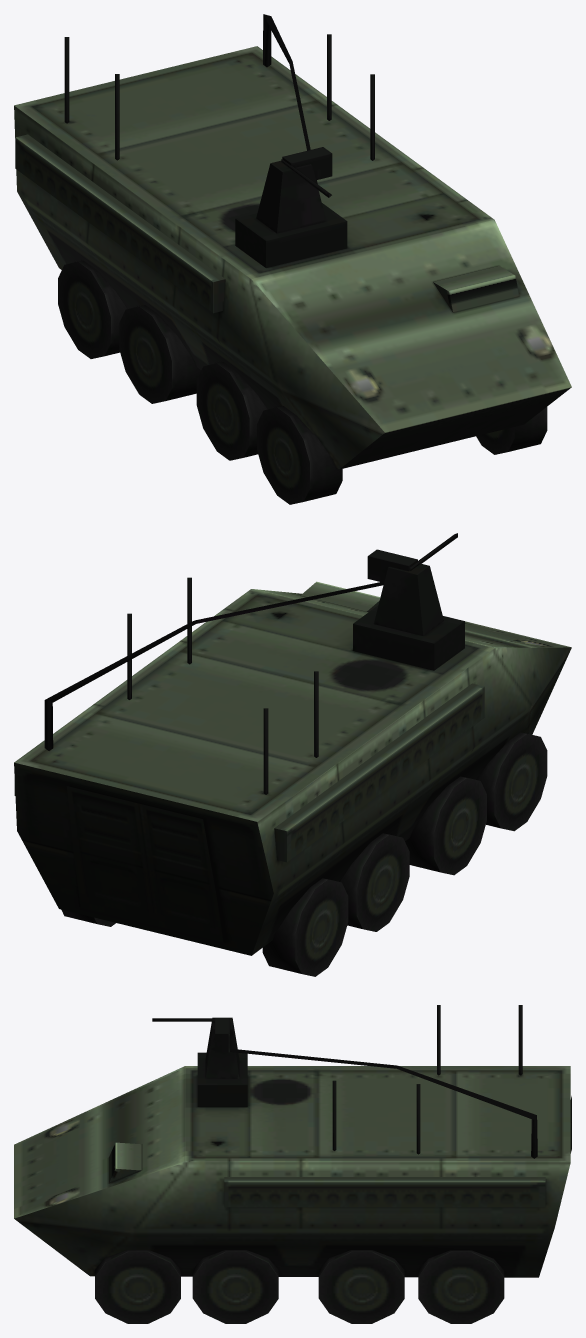
The model's file is Stryker_CMD.DAE.
3 renders of one model, top to bottom at view 1: azimuth 30°, elevation 25°; view 2: azimuth 150°, elevation 25°; view 3: azimuth 270°, elevation 25°, orthographic. The views are drawn at different scales.
Visible parts, largest first — view 1: _1177_Stryker_CMD; view 2: _1177_Stryker_CMD; view 3: _1177_Stryker_CMD.
Boxes of the visible parts, x1,y1,x2,y2 form: _1177_Stryker_CMD: (14, 14, 571, 504); _1177_Stryker_CMD: (14, 533, 571, 976); _1177_Stryker_CMD: (14, 1005, 571, 1323).
Size of the model in its own units: 112 by 114 by 246.
Materials: 1 (1 with a texture image).
